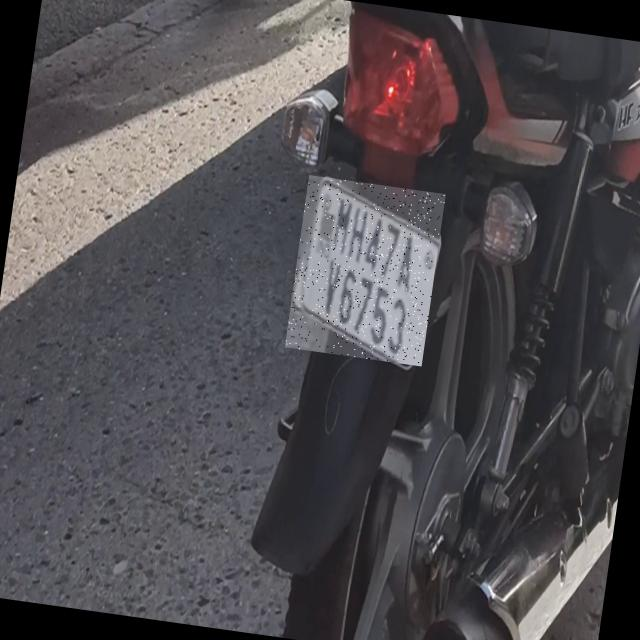Plate: (286, 177, 447, 369)
